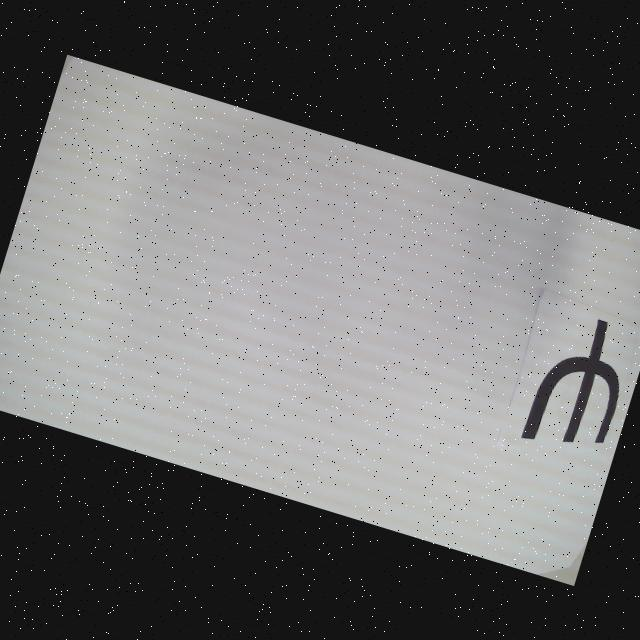PSI: (519, 305, 640, 462)
